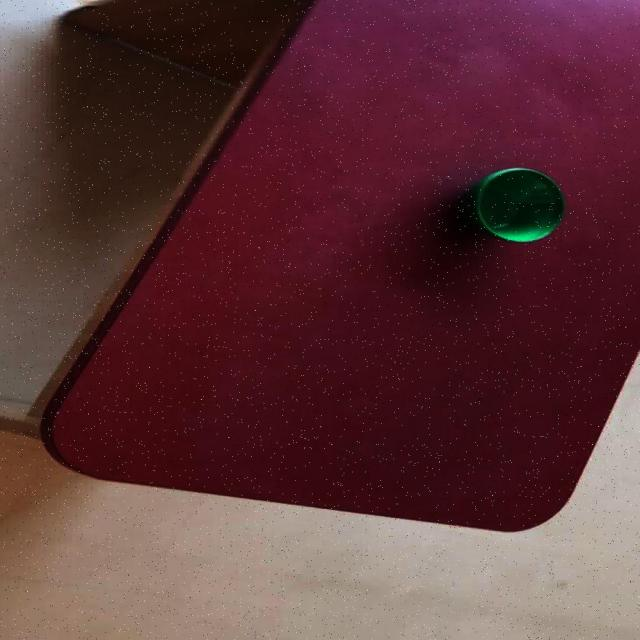Bowl: (31, 0, 640, 532), (457, 166, 565, 242)
